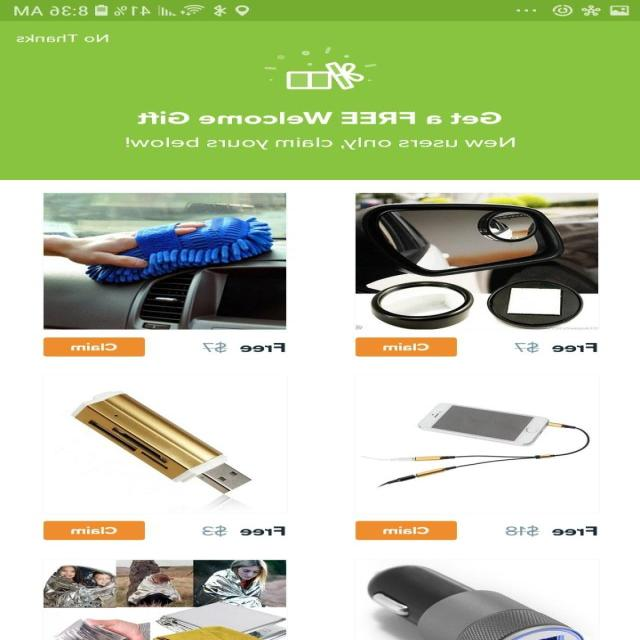Image: (43, 374, 289, 514), (354, 375, 600, 514), (356, 192, 598, 330), (45, 193, 288, 329), (354, 558, 601, 639), (44, 560, 288, 640), (265, 46, 378, 90)
Text: (126, 137, 516, 150), (138, 111, 502, 124), (504, 524, 598, 537), (202, 341, 286, 354), (514, 341, 598, 354), (202, 524, 286, 537), (16, 34, 110, 42)
TextButton: (45, 520, 146, 540), (355, 337, 457, 356), (355, 521, 457, 540), (45, 337, 146, 356)
